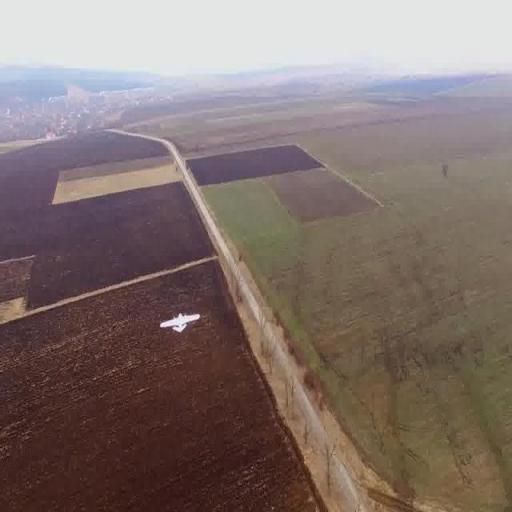uav: (156, 306, 204, 340)
